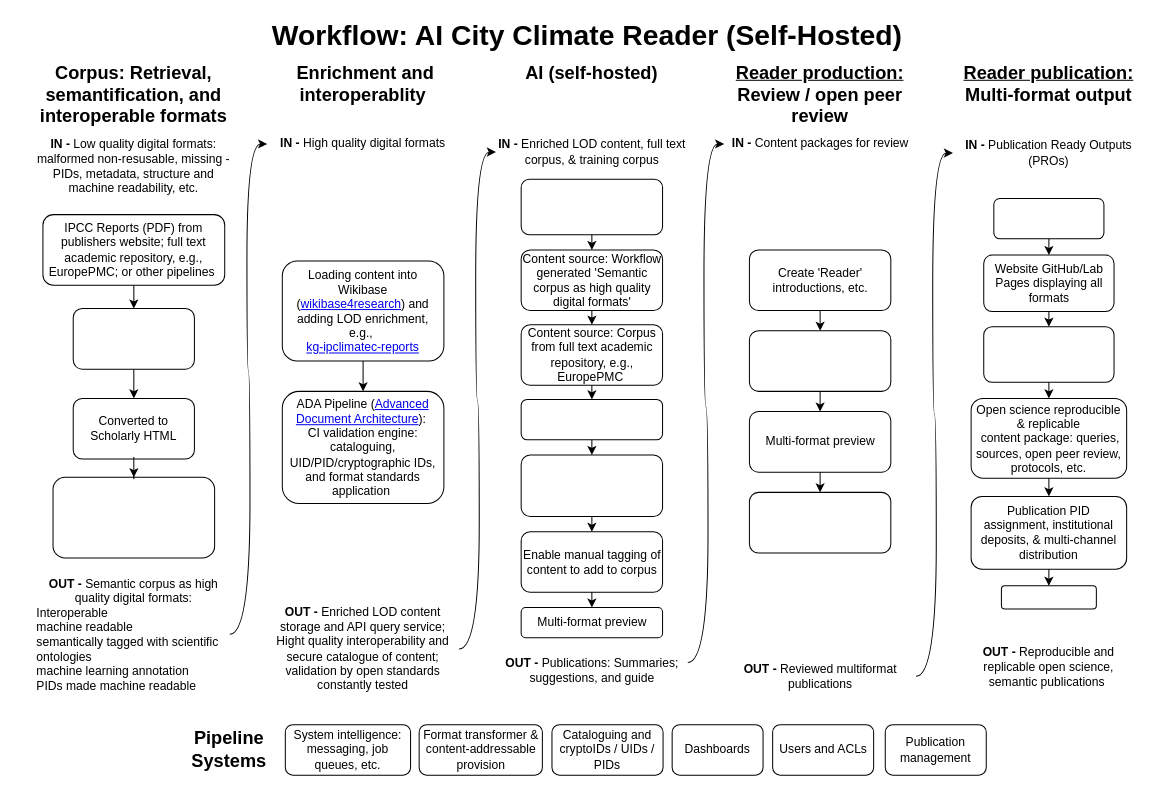
Image size: 1162x804. Some labels were removed from this diagram. Here are the shapes that lost their labels. From the top down, the centre of each, then its label:
the point at 591,206: AI Engine (Self-Hosted) e.g., falcon-7b , falcon-40b-v2 , vicuna-33b-v1.3
the point at 1048,218: GitHub/Lab repository deposit
the point at 133,338: py4ami processess PDFs (if needed)
the point at 1048,354: LOD access page i.e: linking to sources and all outputs, and reuse
the point at 819,360: Review and open peer review
the point at 591,419: Training corpus source
the point at 591,485: Create: Summaries; suggestions, and Guide Publication.
the point at 133,517: Dictionariy and machine learning scans annotating HMTL with semantic markup
the point at 819,522: Multi-format publication creation
the point at 1048,597: Metrics data
